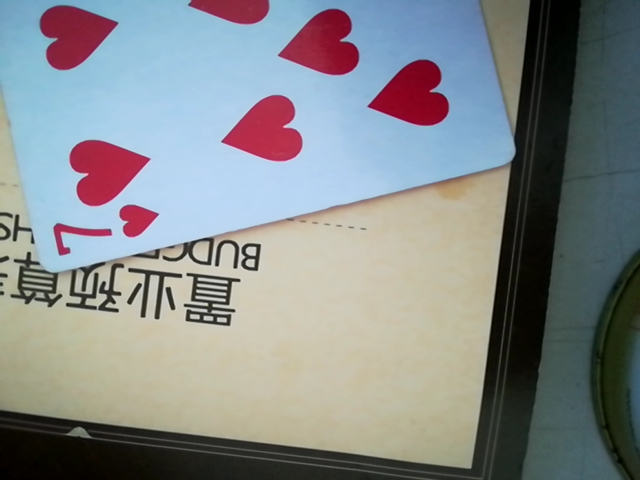hx 7: (2, 0, 513, 267)
